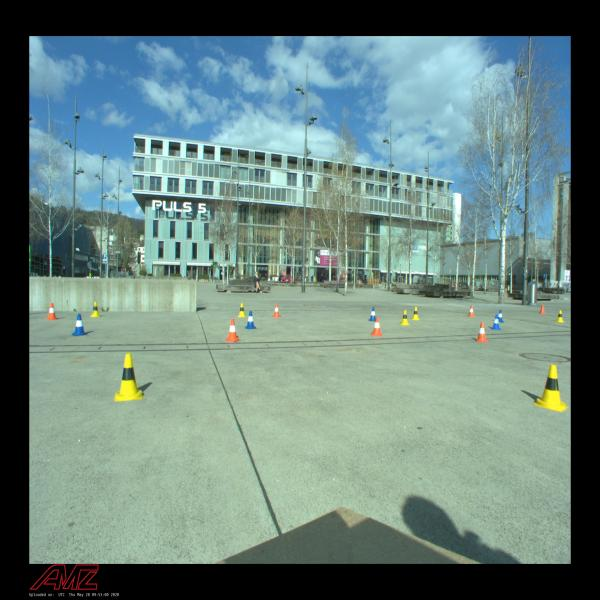blue_cone: (72, 314, 87, 336), (245, 311, 257, 329), (491, 315, 501, 330), (368, 308, 378, 322), (497, 310, 504, 323)
orange_cone: (225, 319, 241, 342), (475, 322, 488, 342), (371, 316, 383, 337), (46, 303, 58, 320), (272, 304, 282, 317), (468, 305, 475, 317), (539, 305, 546, 314)
yellow_cone: (533, 364, 568, 412), (114, 353, 142, 402), (399, 310, 411, 325), (91, 302, 100, 318), (411, 307, 420, 320), (238, 303, 246, 317), (556, 310, 564, 322)
